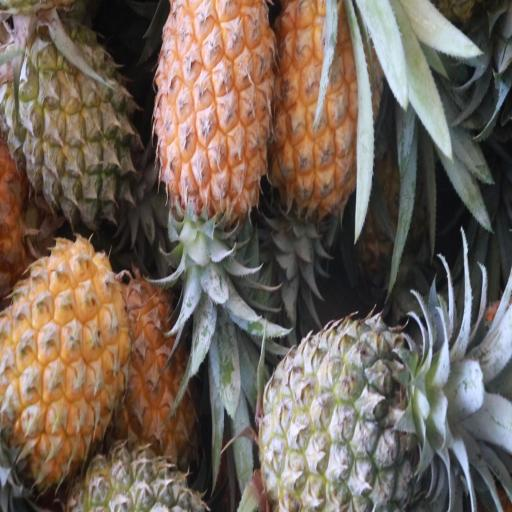------------------------------: (19, 21, 140, 219)
Pineapple - v8 v1: (0, 236, 118, 483), (154, 0, 274, 221), (277, 0, 390, 208), (116, 274, 196, 471)
